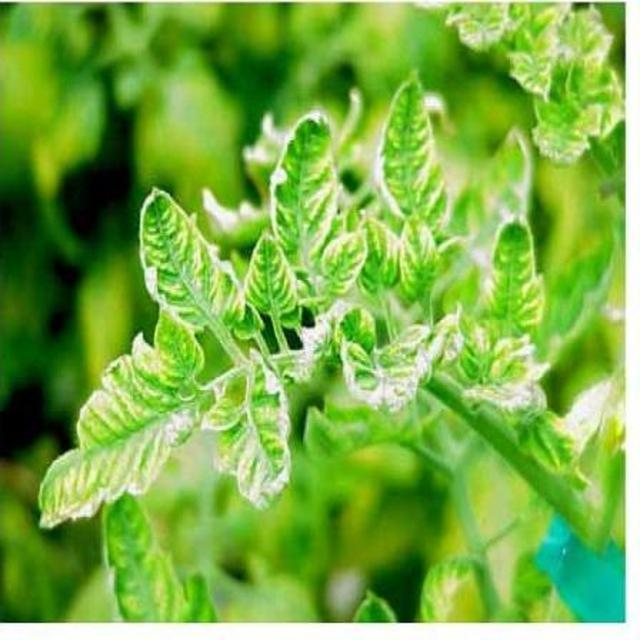Yellow Leaf Curl Virus: (101, 198, 640, 640)
